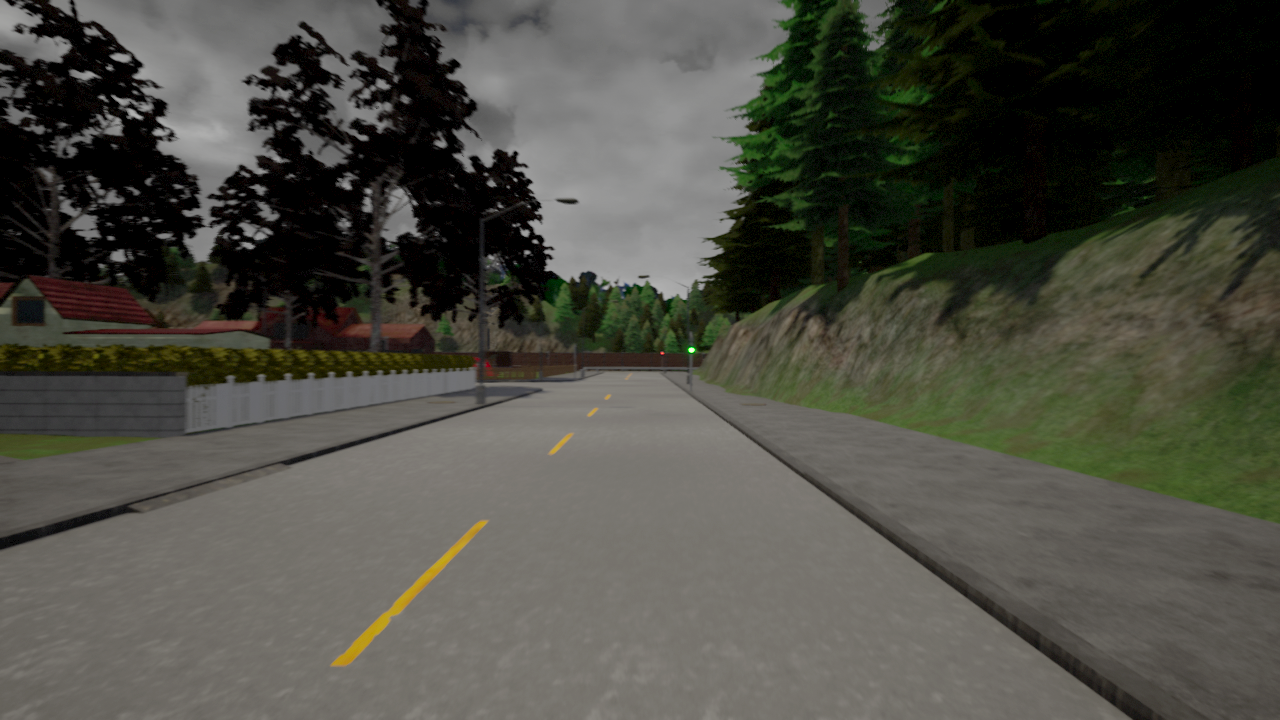green: (687, 337, 697, 354)
